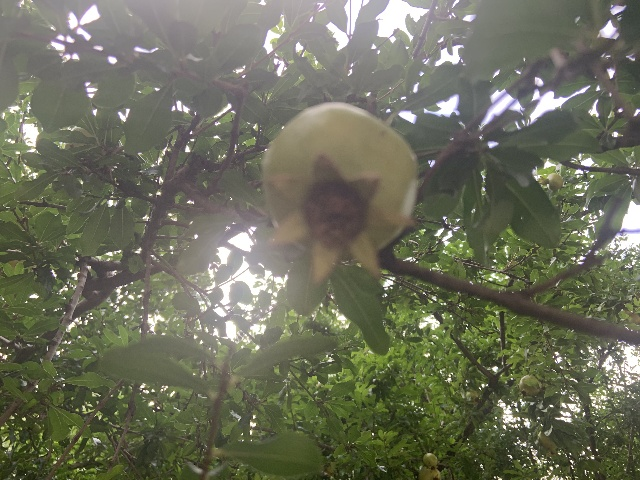mid-growth: (260, 102, 422, 286), (538, 430, 558, 457), (517, 375, 540, 398), (538, 173, 563, 190), (422, 452, 438, 473), (418, 467, 440, 480), (466, 389, 481, 406)
